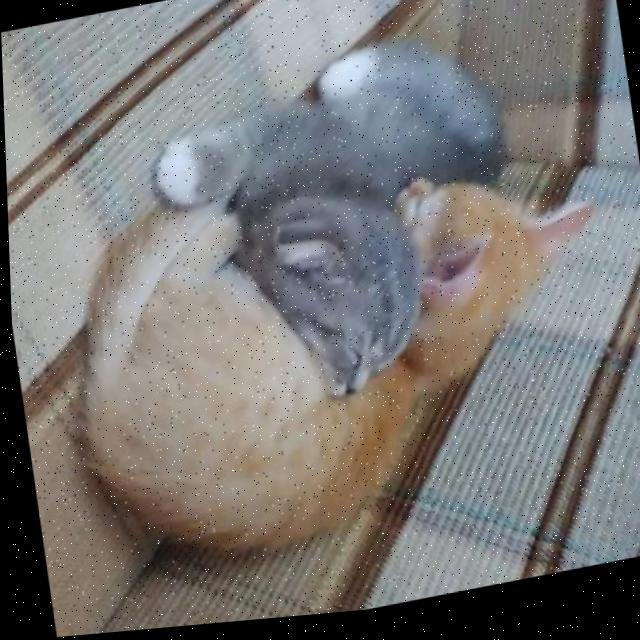Cats: (42, 126, 636, 619), (119, 12, 540, 449)
